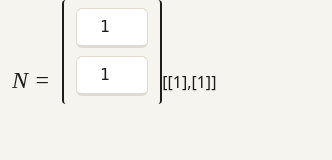
it: GridInput › edits any shape
Replace the text in the number field named "N row 2, column 1" with "-0.5" at (112, 76), box [76,56,148,96]
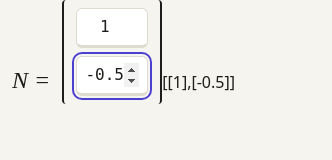
Check: the text with test id "v" reads "[ [1],[-0.5]]", box [162,71,235,93]
